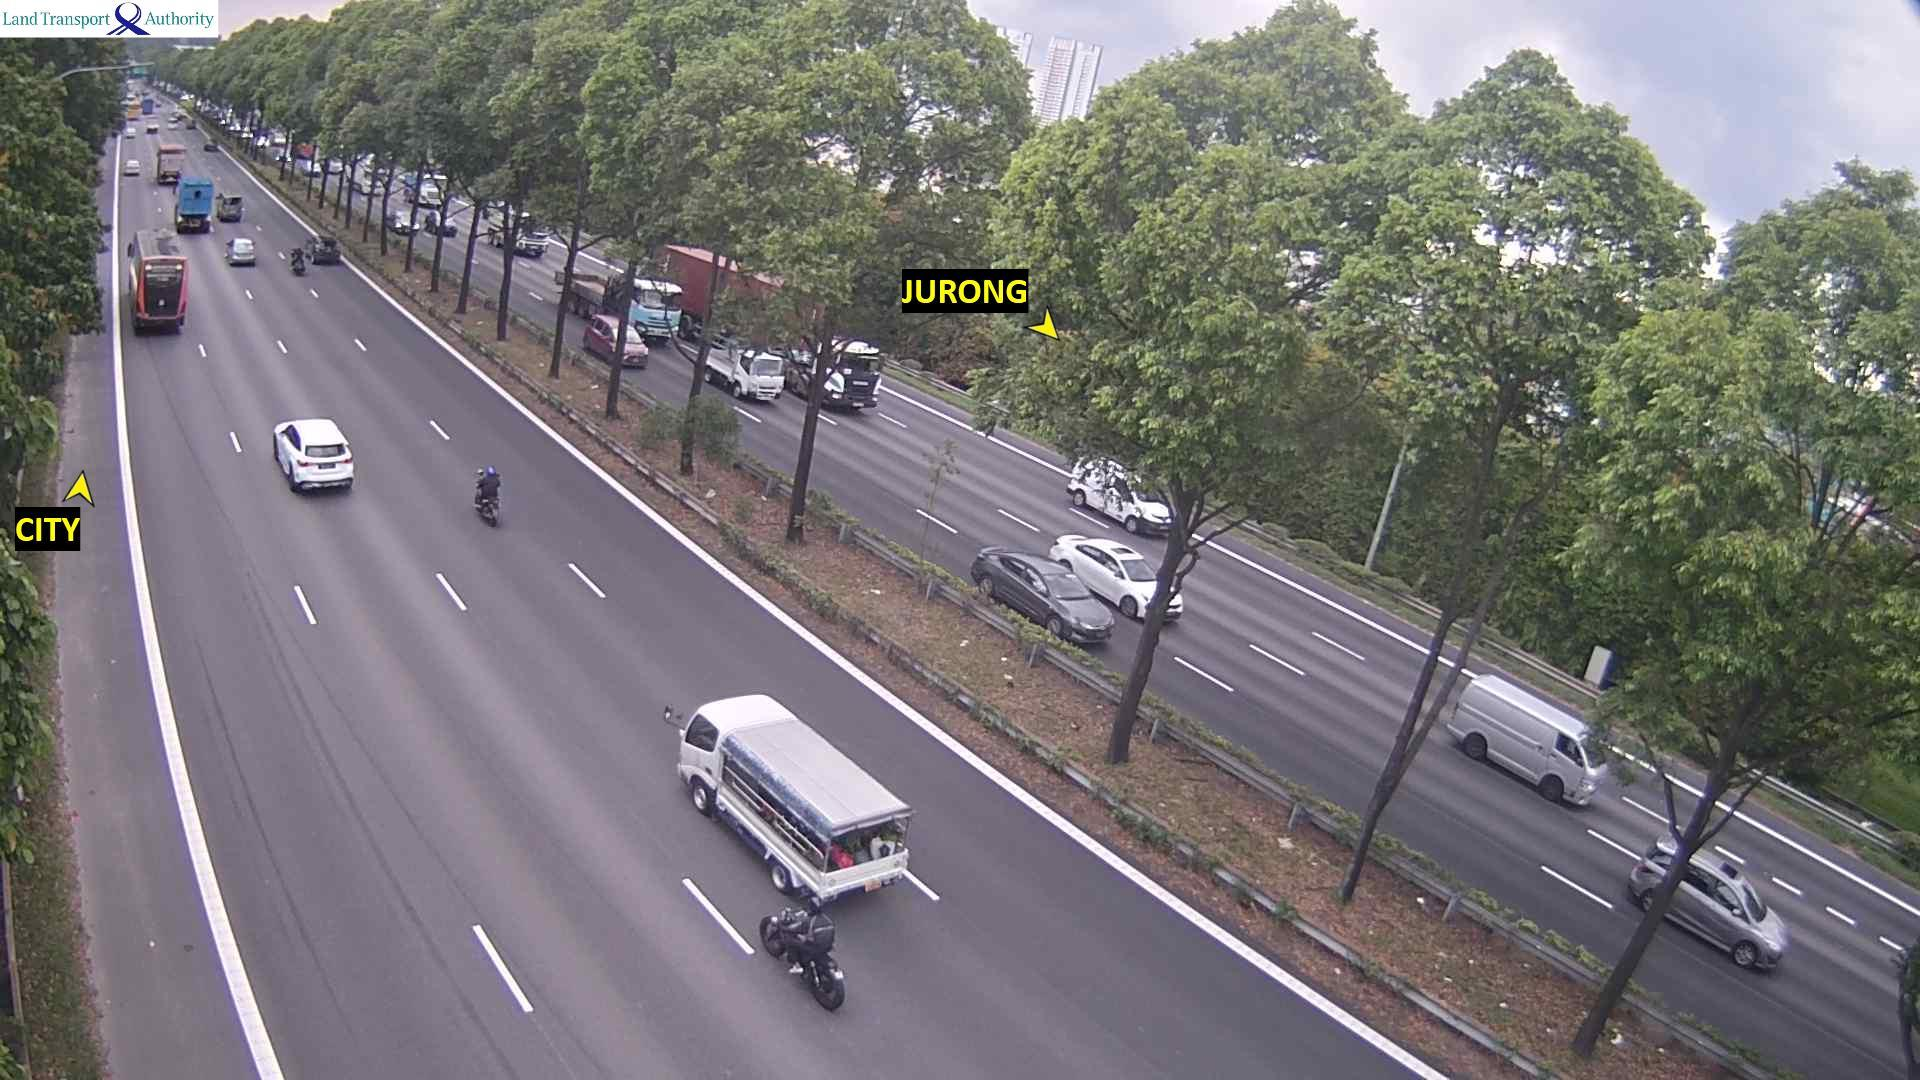bus: (127, 227, 189, 334)
cars: (1626, 833, 1788, 971), (1444, 673, 1607, 807), (968, 545, 1116, 646), (1047, 533, 1184, 622), (1065, 454, 1178, 537), (272, 417, 353, 495), (582, 313, 647, 368), (487, 208, 549, 257), (402, 170, 447, 207), (307, 233, 342, 264), (512, 229, 547, 257), (422, 210, 456, 237), (224, 236, 255, 266), (216, 193, 244, 222), (386, 210, 418, 233), (320, 156, 345, 174), (166, 108, 185, 127), (123, 158, 140, 175), (140, 95, 156, 113), (202, 138, 218, 152), (146, 119, 160, 135), (124, 125, 137, 137)
motorcycle: (758, 897, 847, 1011), (472, 468, 502, 527), (289, 247, 306, 276)
trucks: (662, 692, 914, 907), (659, 232, 882, 415), (562, 258, 676, 345), (702, 348, 787, 402), (173, 175, 214, 233), (156, 142, 186, 185)
